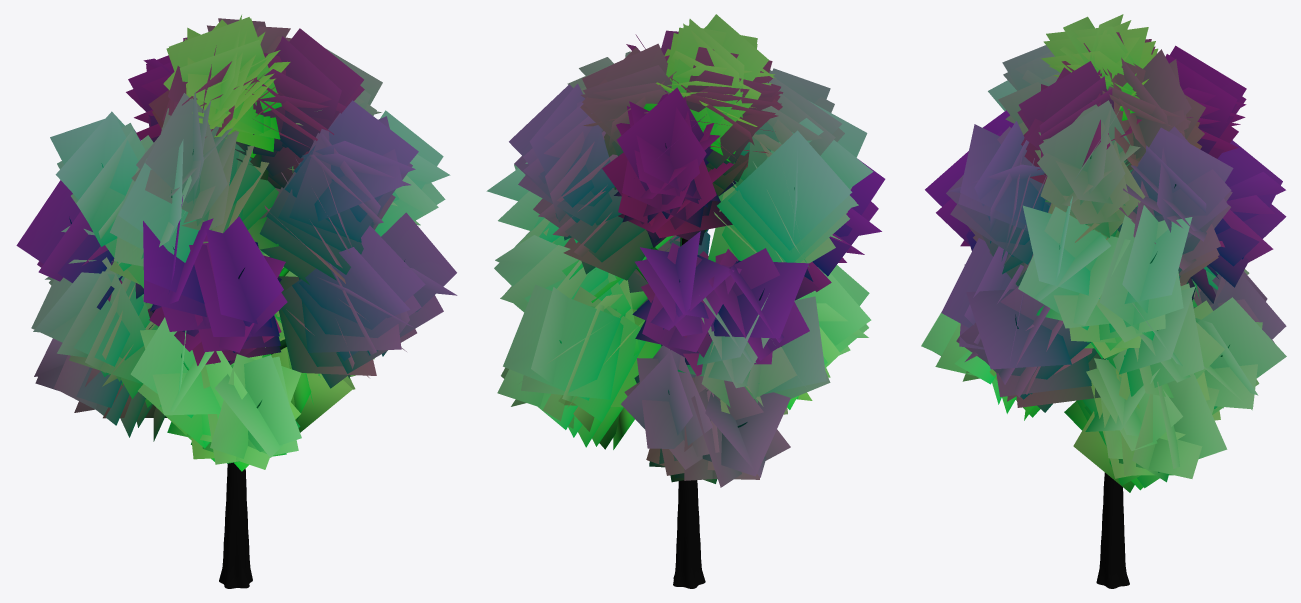
Rendered from FirstTree.fbx.
The picture shows the model from 3 angles, left to right: view 1: azimuth 30°, elevation 25°; view 2: azimuth 150°, elevation 25°; view 3: azimuth 270°, elevation 25°; orthographic projection. The views are drawn at different scales.
Parts seen in each view (by area): view 1: sprite_0048_1, _0; view 2: sprite_0048_1, _0; view 3: sprite_0048_1, _0.
Part boxes in pixels (x1,y1,x2,y2): sprite_0048_1: [16, 15, 457, 471]; _0: [69, 149, 404, 588]; sprite_0048_1: [486, 14, 885, 487]; _0: [559, 143, 794, 588]; sprite_0048_1: [921, 14, 1286, 492]; _0: [1015, 155, 1229, 588].
Size of the model in its own units: 392 by 602 by 357.
